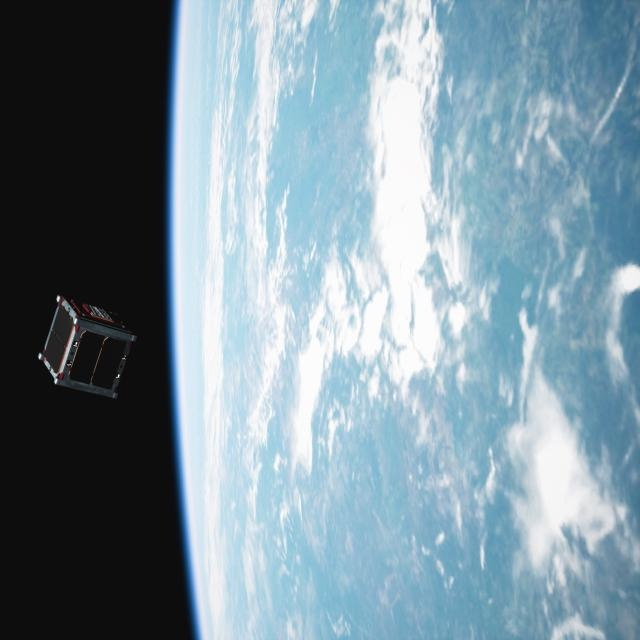satellite: (31, 287, 135, 404)
